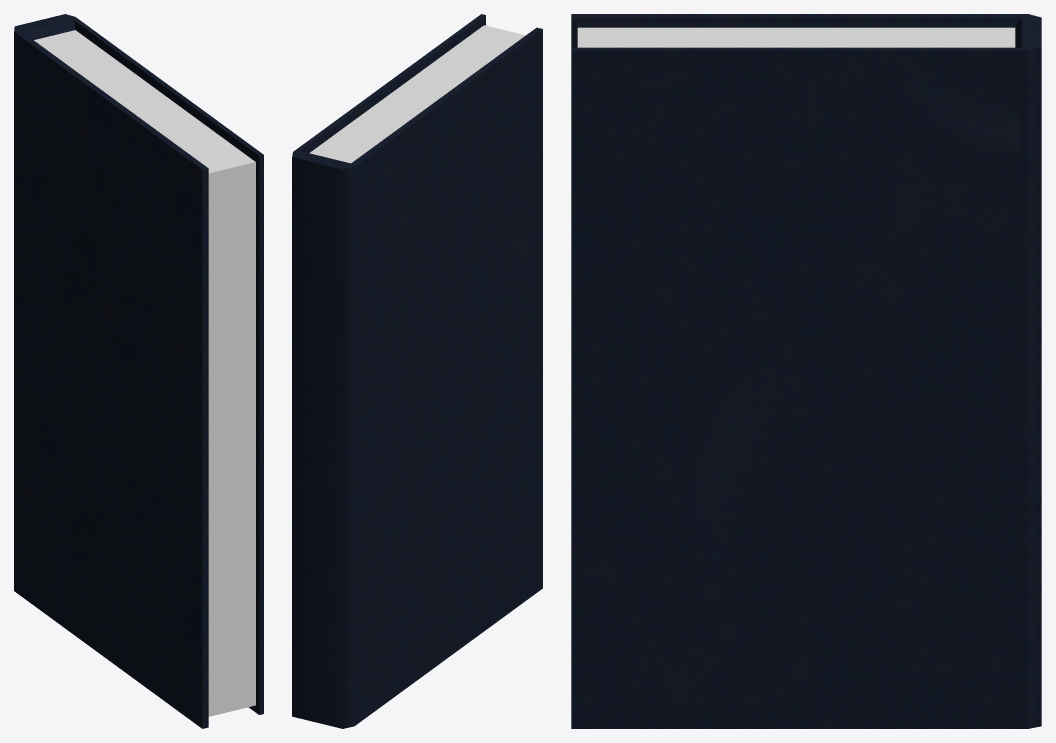
The model's file is LibroAzulOscuro.fbx.
3 renders of one model, left to right at view 1: azimuth 30°, elevation 25°; view 2: azimuth 150°, elevation 25°; view 3: azimuth 270°, elevation 25°, orthographic. The views are drawn at different scales.
Visible parts, largest first — view 1: pCube10; view 2: pCube10; view 3: pCube10.
Part boxes in pixels (left/top/right/bottom): pCube10: left=14, top=14, right=263, bottom=728; pCube10: left=292, top=14, right=542, bottom=728; pCube10: left=571, top=14, right=1041, bottom=728.
Bounding box in the file's own units: 0.1092 × 0.9506 × 0.5973.
Materials: 2 (1 with a texture image).
